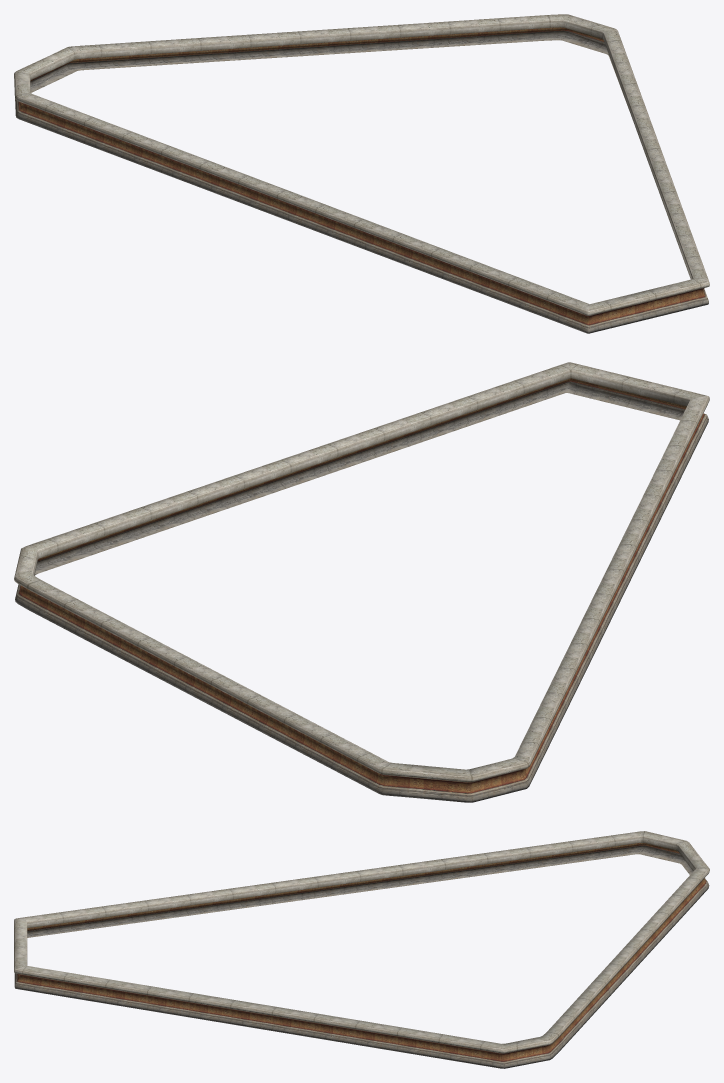
Rendered from Plant0Round.fbx.
3 renders of one model, top to bottom at view 1: azimuth 30°, elevation 25°; view 2: azimuth 150°, elevation 25°; view 3: azimuth 270°, elevation 25°, orthographic. The views are drawn at different scales.
Visible parts, largest first — view 1: LV_Campagna_City_FlowerBeds11_SM_KSR; view 2: LV_Campagna_City_FlowerBeds11_SM_KSR; view 3: LV_Campagna_City_FlowerBeds11_SM_KSR.
Boxes of the visible parts, x1,y1,x2,y2 form: LV_Campagna_City_FlowerBeds11_SM_KSR: (14,14,709,333); LV_Campagna_City_FlowerBeds11_SM_KSR: (14,362,709,802); LV_Campagna_City_FlowerBeds11_SM_KSR: (14,831,709,1068).
Size of the model in its own units: 2.89 by 0.12 by 3.88.
